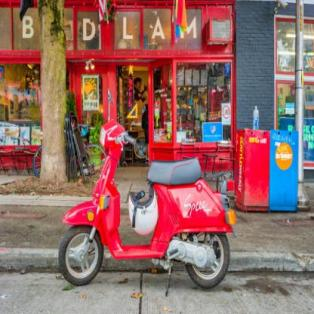Motocicleta: (56, 90, 237, 298)
